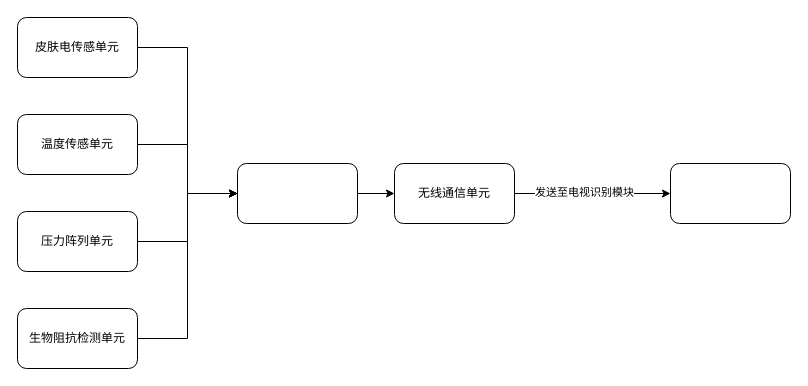
The diagram is 808 pixels wide and 386 high, and some of its shapes have lost their labels. The centre of each missing label's shape, as x and y in pixels:
信号处理单元: the point at 297,193
电视端: the point at 730,193
